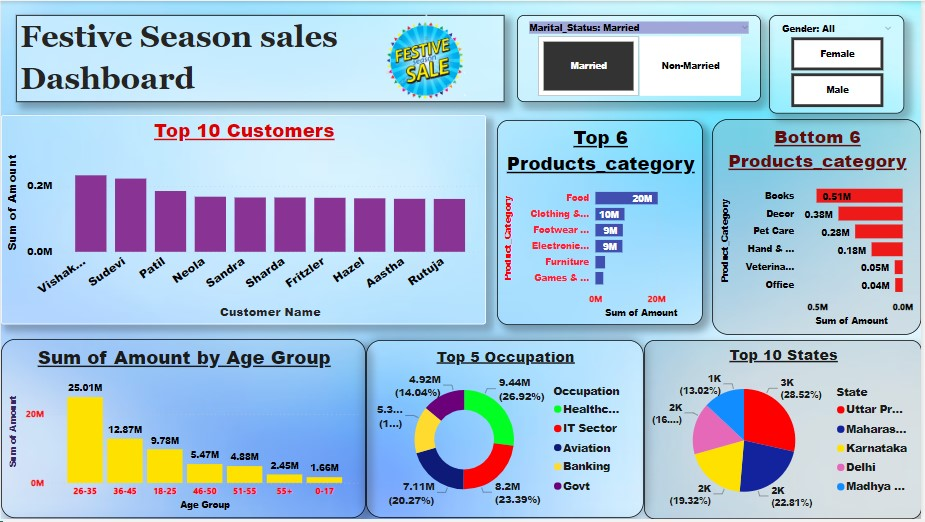

What the dashboard file says about the page in this screenshot:
{"tool":"powerbi","page":{"name":"Page 1","canvas":[1280,720],"ordinal":0},"visuals":[{"type":"columnChart","fields":{"Category":["diwali.Age Group"],"Y":["diwali.Amount"]},"box":[0,469.8,507.4,248.8],"z":0},{"type":"barChart","title":"Top 6 Products_category","fields":{"Category":["diwali.Product_Category"],"Y":["diwali.Amount"]},"box":[689.1,165.3,286.4,284.8],"z":1000},{"type":"barChart","title":"Bottom 6 Products_category","fields":{"Category":["diwali.Product_Category"],"Y":["diwali.Amount"]},"box":[988.6,163.7,291.4,299.5],"z":2000},{"type":"pieChart","title":"Top 10  States","fields":{"Category":["diwali.State"],"Y":["diwali.Orders"]},"box":[893.7,471.4,386.3,248.8],"z":3000},{"type":"donutChart","title":"Top 5 Occupation","fields":{"Category":["diwali.Occupation"],"Y":["diwali.Amount"]},"box":[507.4,471.4,386.3,247.2],"z":4000},{"type":"columnChart","title":"Top 10 Customers","fields":{"Category":["diwali.Cust_name"],"Y":["diwali.Amount"]},"box":[0,158.8,674.4,291.4],"z":5000},{"type":"slicer","fields":{"Values":["diwali.Marital_Status"]},"box":[716.9,19.6,338.8,121.1],"z":5001},{"type":"textbox","box":[21.3,19.6,679.3,121.1],"z":5002},{"type":"slicer","fields":{"Values":["diwali.Gender"]},"box":[1067.2,19.6,188.2,137.5],"z":5003},{"type":"image","box":[504.1,4.9,170.2,165.3],"z":5004}]}

Visuals, with their boxes in screenshot pixels (x1, y1, x2, y2), scaled from the page's 1280x720 canvas onto the 925x522 screenshot:
columnChart - diwali.Age Group x diwali.Amount: [x1=0, y1=341, x2=367, y2=521]
"Top 6 Products_category" barChart: [x1=498, y1=120, x2=705, y2=326]
"Bottom 6 Products_category" barChart: [x1=714, y1=119, x2=924, y2=336]
"Top 10  States" pieChart: [x1=646, y1=342, x2=924, y2=521]
"Top 5 Occupation" donutChart: [x1=367, y1=342, x2=646, y2=521]
"Top 10 Customers" columnChart: [x1=0, y1=115, x2=487, y2=326]
slicer - diwali.Marital_Status: [x1=518, y1=14, x2=763, y2=102]
textbox: [x1=15, y1=14, x2=506, y2=102]
slicer - diwali.Gender: [x1=771, y1=14, x2=907, y2=114]
image: [x1=364, y1=4, x2=487, y2=123]
